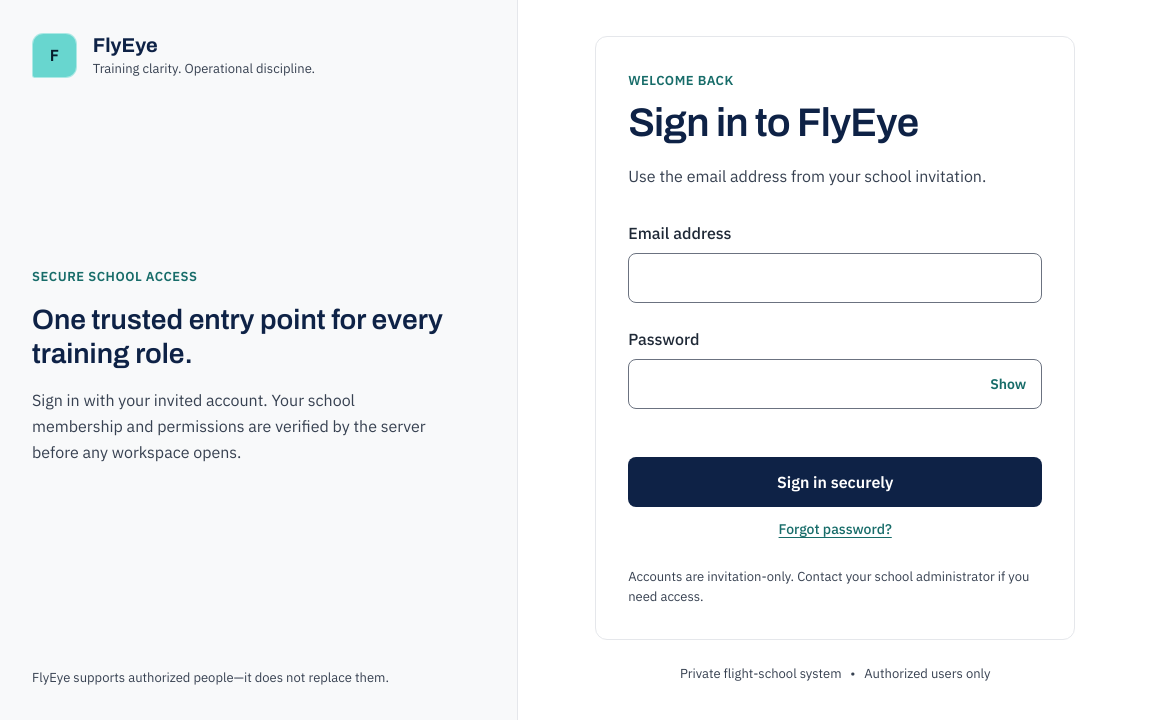
Test: FEAT-001 authentication UI › signs in an active student and shows the success state
The image size is (1152, 720).
expect the heading "Sign in to FlyEye" is shown: met, box [628,101,918,144]
In the field labelled "Email address": [835, 278] box [628,253,1042,303], type "student@example.test"
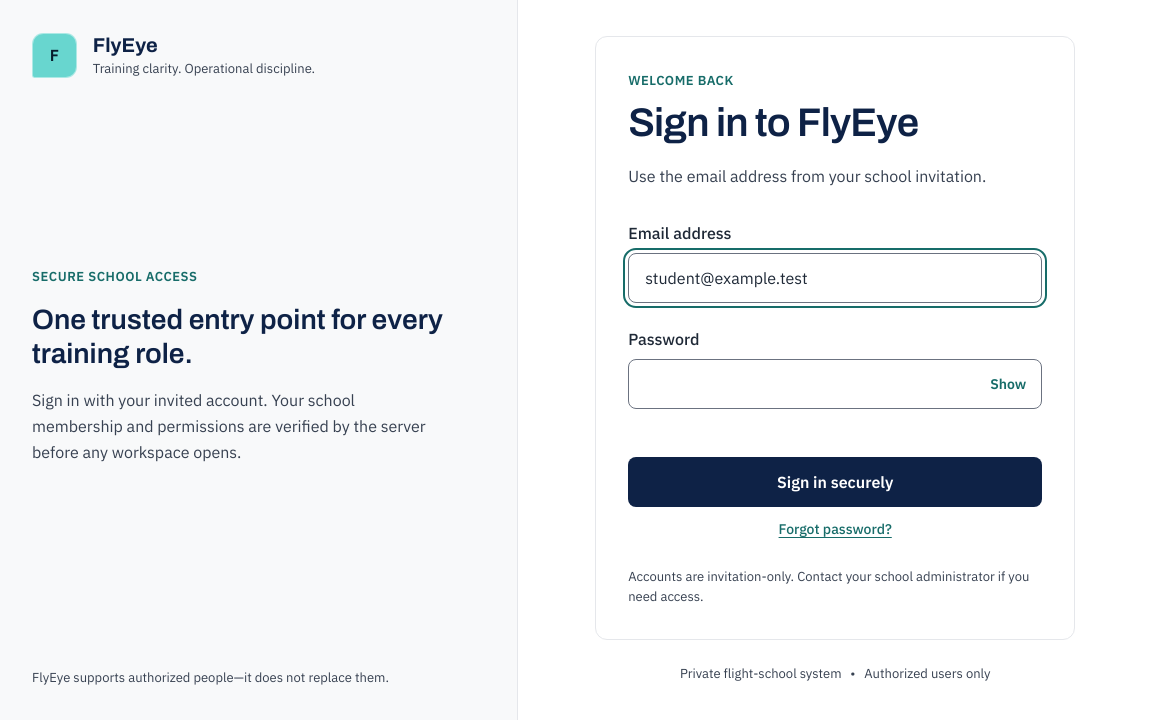
In the password field labelled "Password": [835, 384] box [628,359,1042,409], type "NotARealPassword1!"
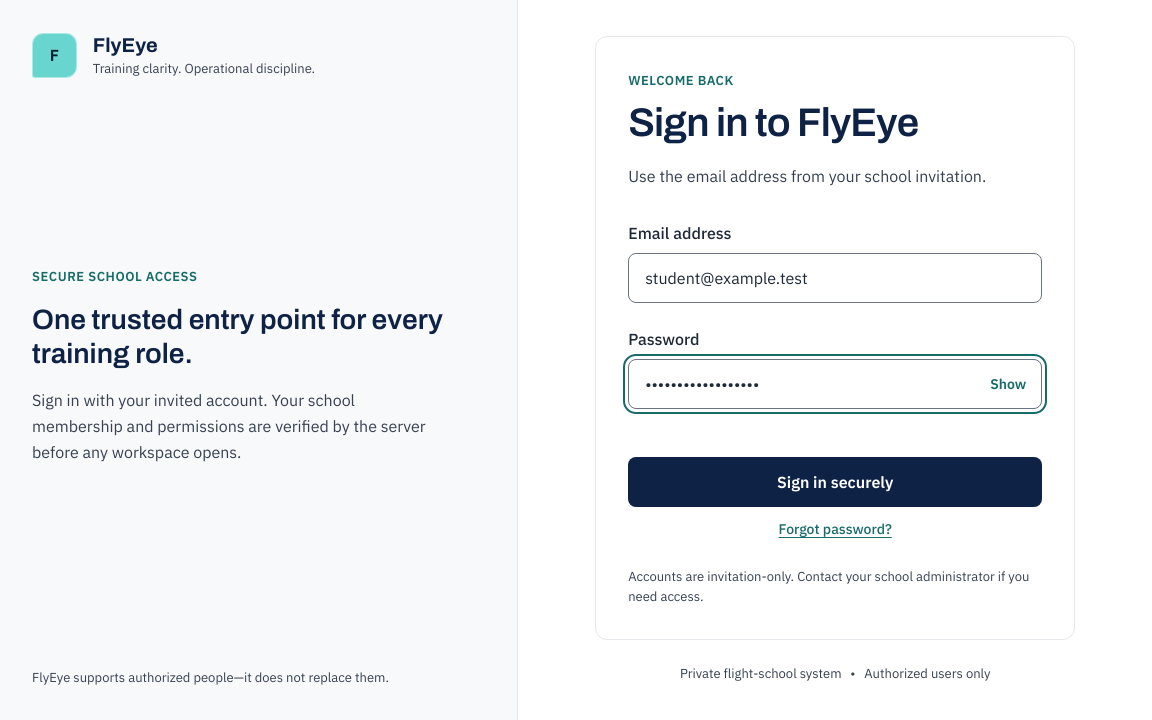
Click the button "Sign in securely": [835, 482] box [628,457,1042,507]
(page scrolled)
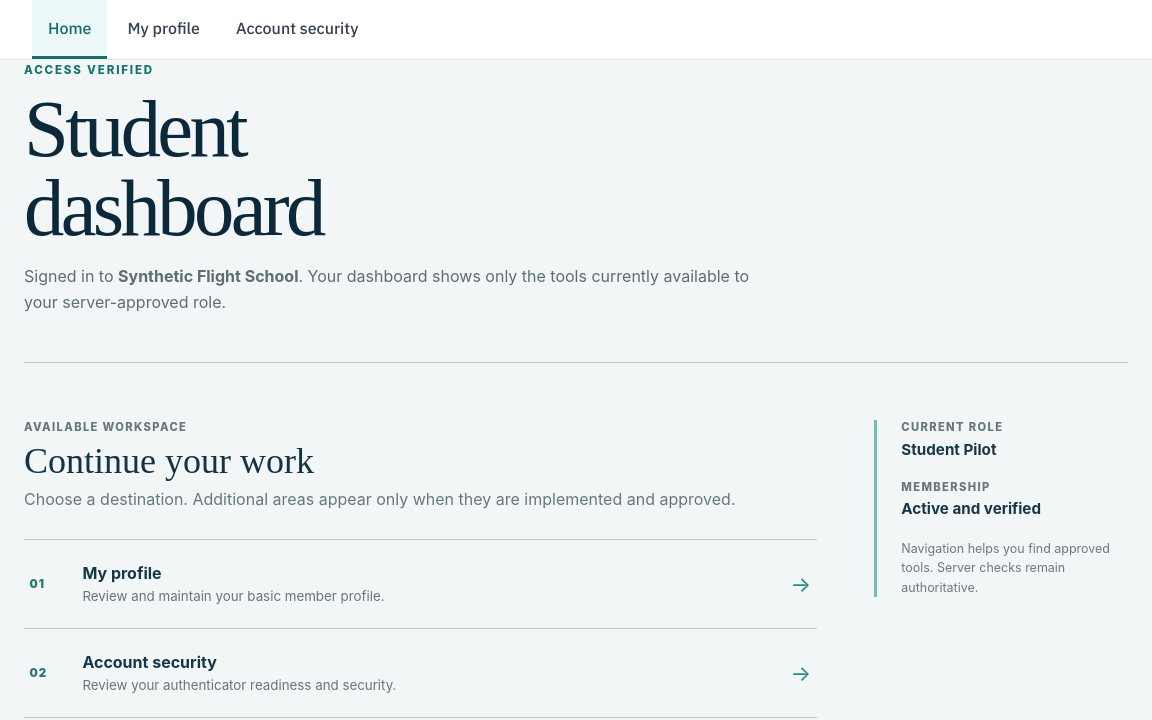
expect the heading "Student dashboard" is shown: met, box [24,84,323,252]
expect the text "Synthetic Flight School" is shown 2 times: met
expect the navigation bar named "Primary navigation" is shown: met, box [0,0,1151,60]
